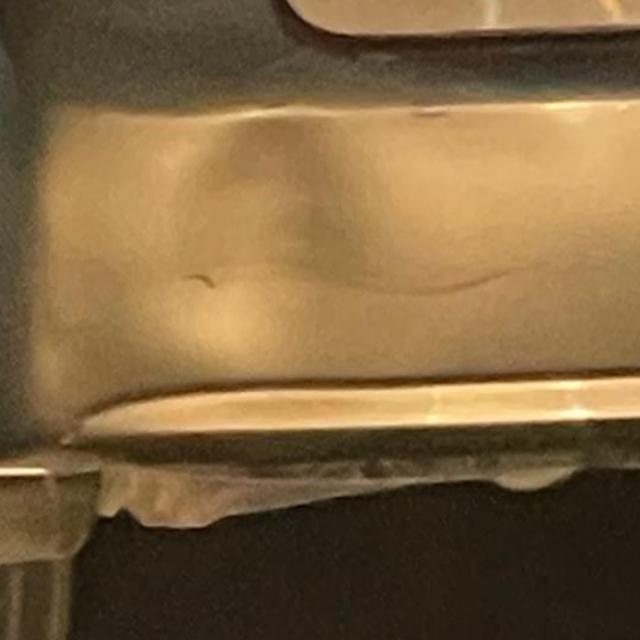dents: (157, 110, 361, 357)
